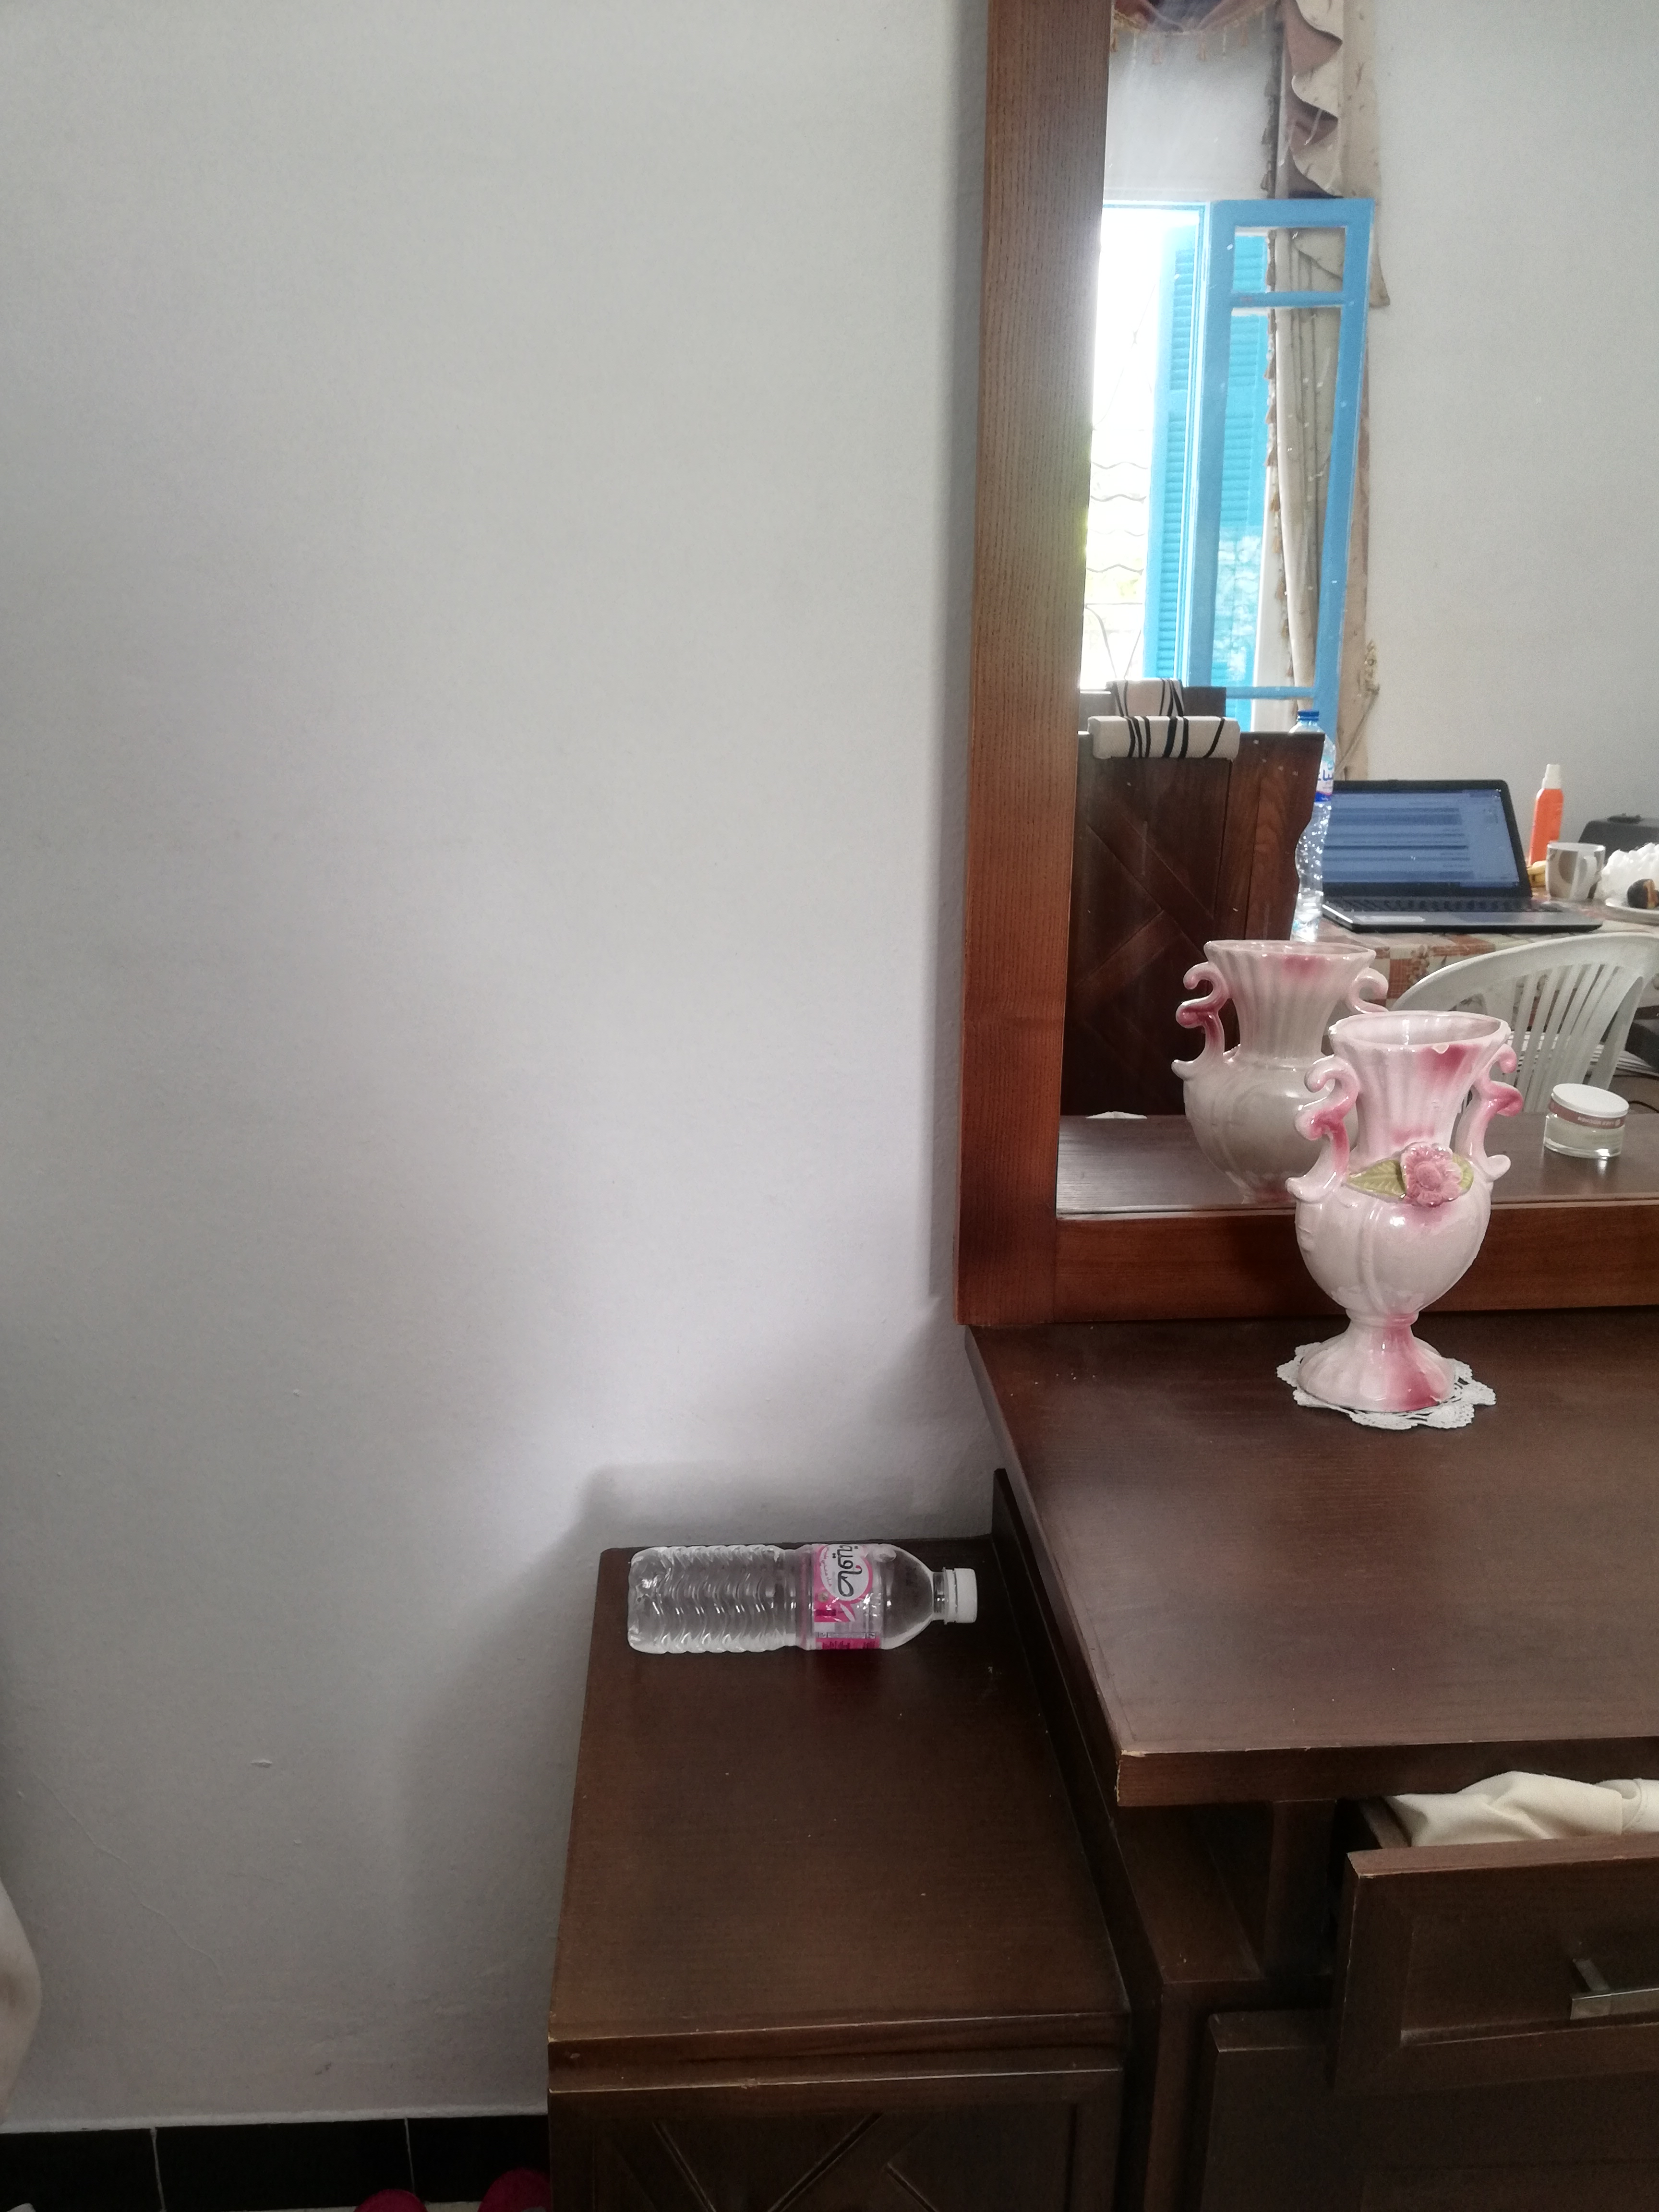Eau safia: (624, 1534, 983, 1676)
